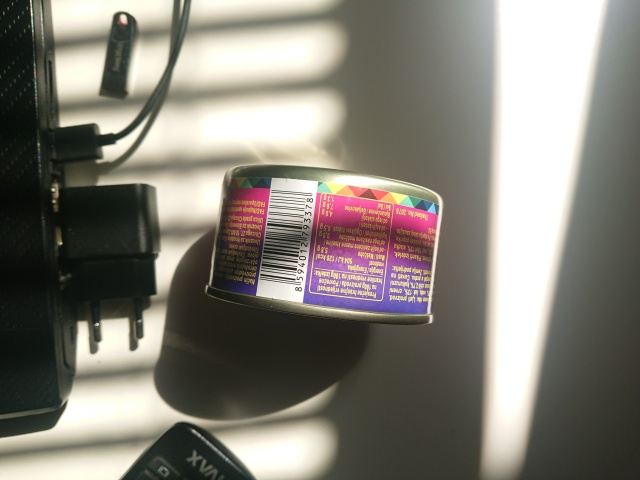Giana Tuna Salad Mexico 185g: (202, 159, 446, 328)
